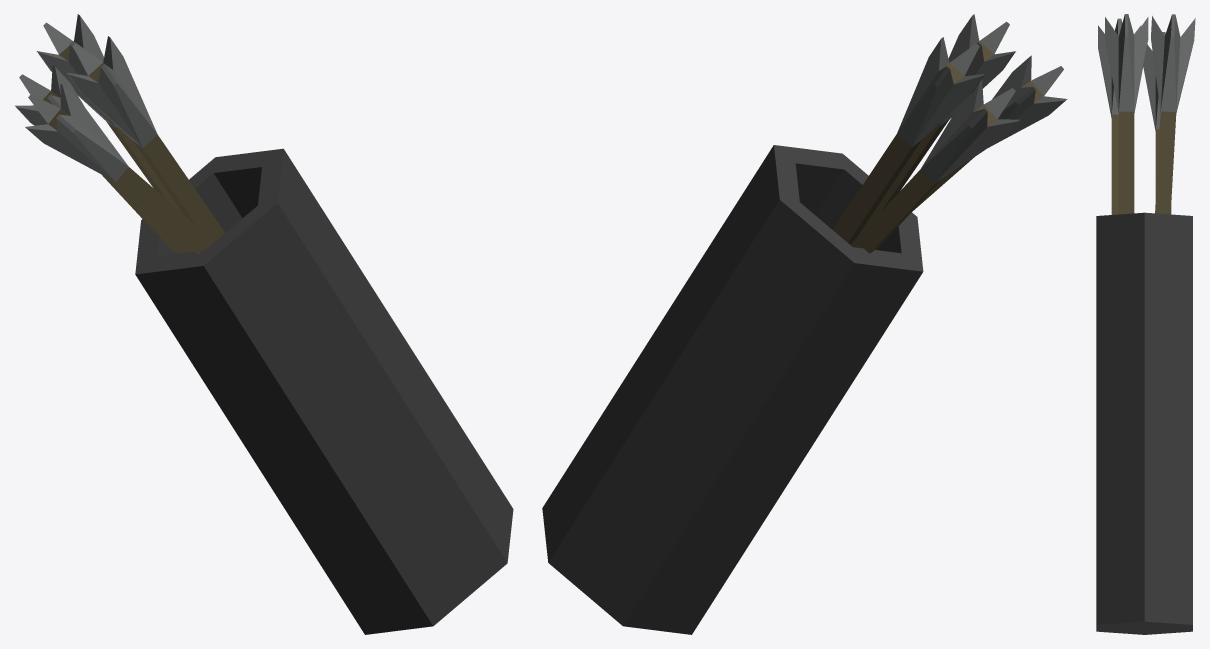
Rendered from RedArcherQuiver.fbx.
The picture shows the model from 3 angles, left to right: view 1: azimuth 30°, elevation 25°; view 2: azimuth 150°, elevation 25°; view 3: azimuth 270°, elevation 25°; orthographic projection. The views are drawn at different scales.
Visible parts, largest first — view 1: pCylinder5; view 2: pCylinder5; view 3: pCylinder5.
Boxes of the visible parts, <box> form: pCylinder5: <box>15,14,513,634</box>; pCylinder5: <box>542,14,1067,634</box>; pCylinder5: <box>1096,14,1195,634</box>.
Bounding box in the file's own units: 0.4592 × 0.5853 × 0.101.
